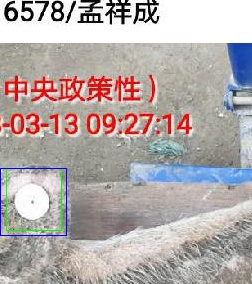text: (6, 168, 61, 230)
